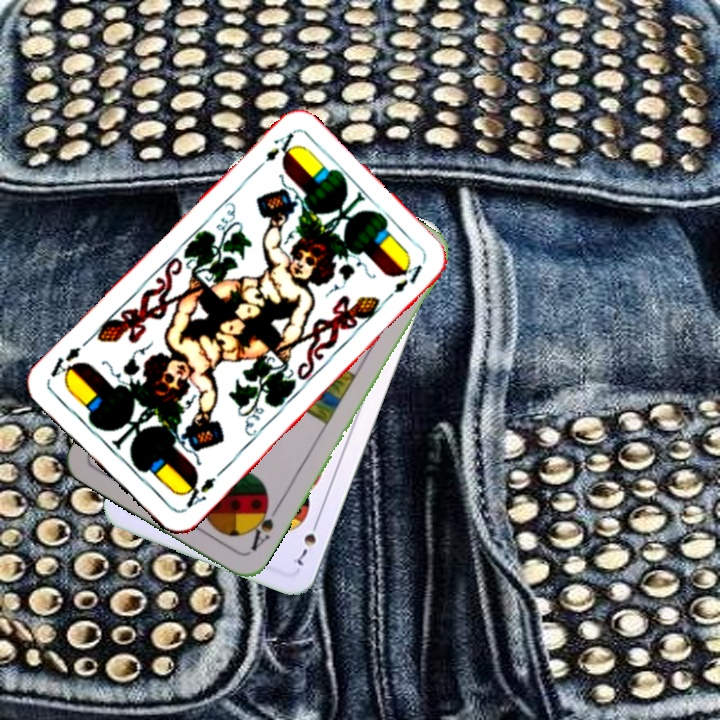EA: (177, 472, 219, 514), (261, 128, 298, 165)
S7: (289, 515, 322, 569)
SA: (244, 498, 281, 555)
